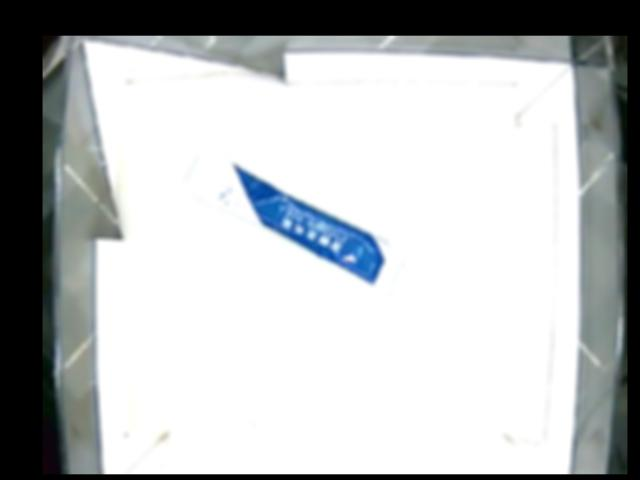Medicine: (184, 150, 409, 294)
